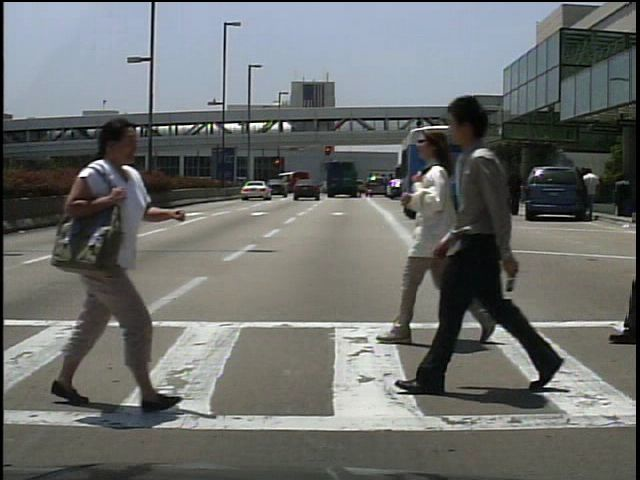person: (422, 83, 567, 400), (51, 121, 181, 416), (383, 117, 500, 354), (485, 162, 503, 215), (585, 167, 602, 218), (508, 166, 525, 216)
